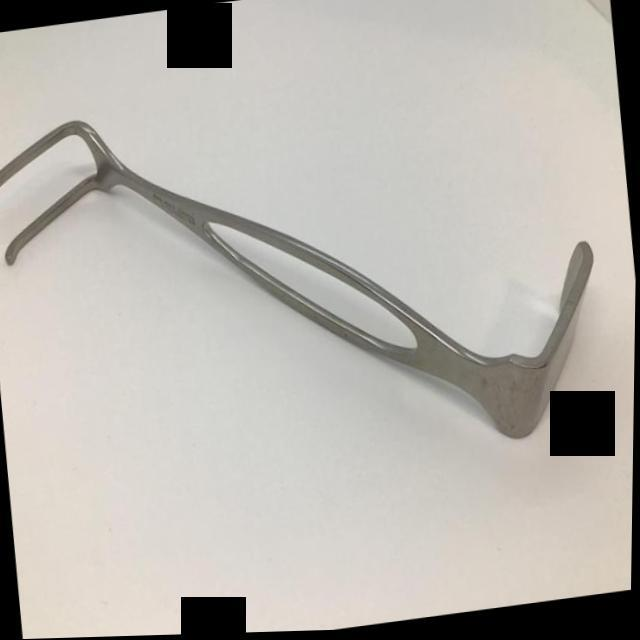Czerny Retractor: (0, 50, 621, 508)
